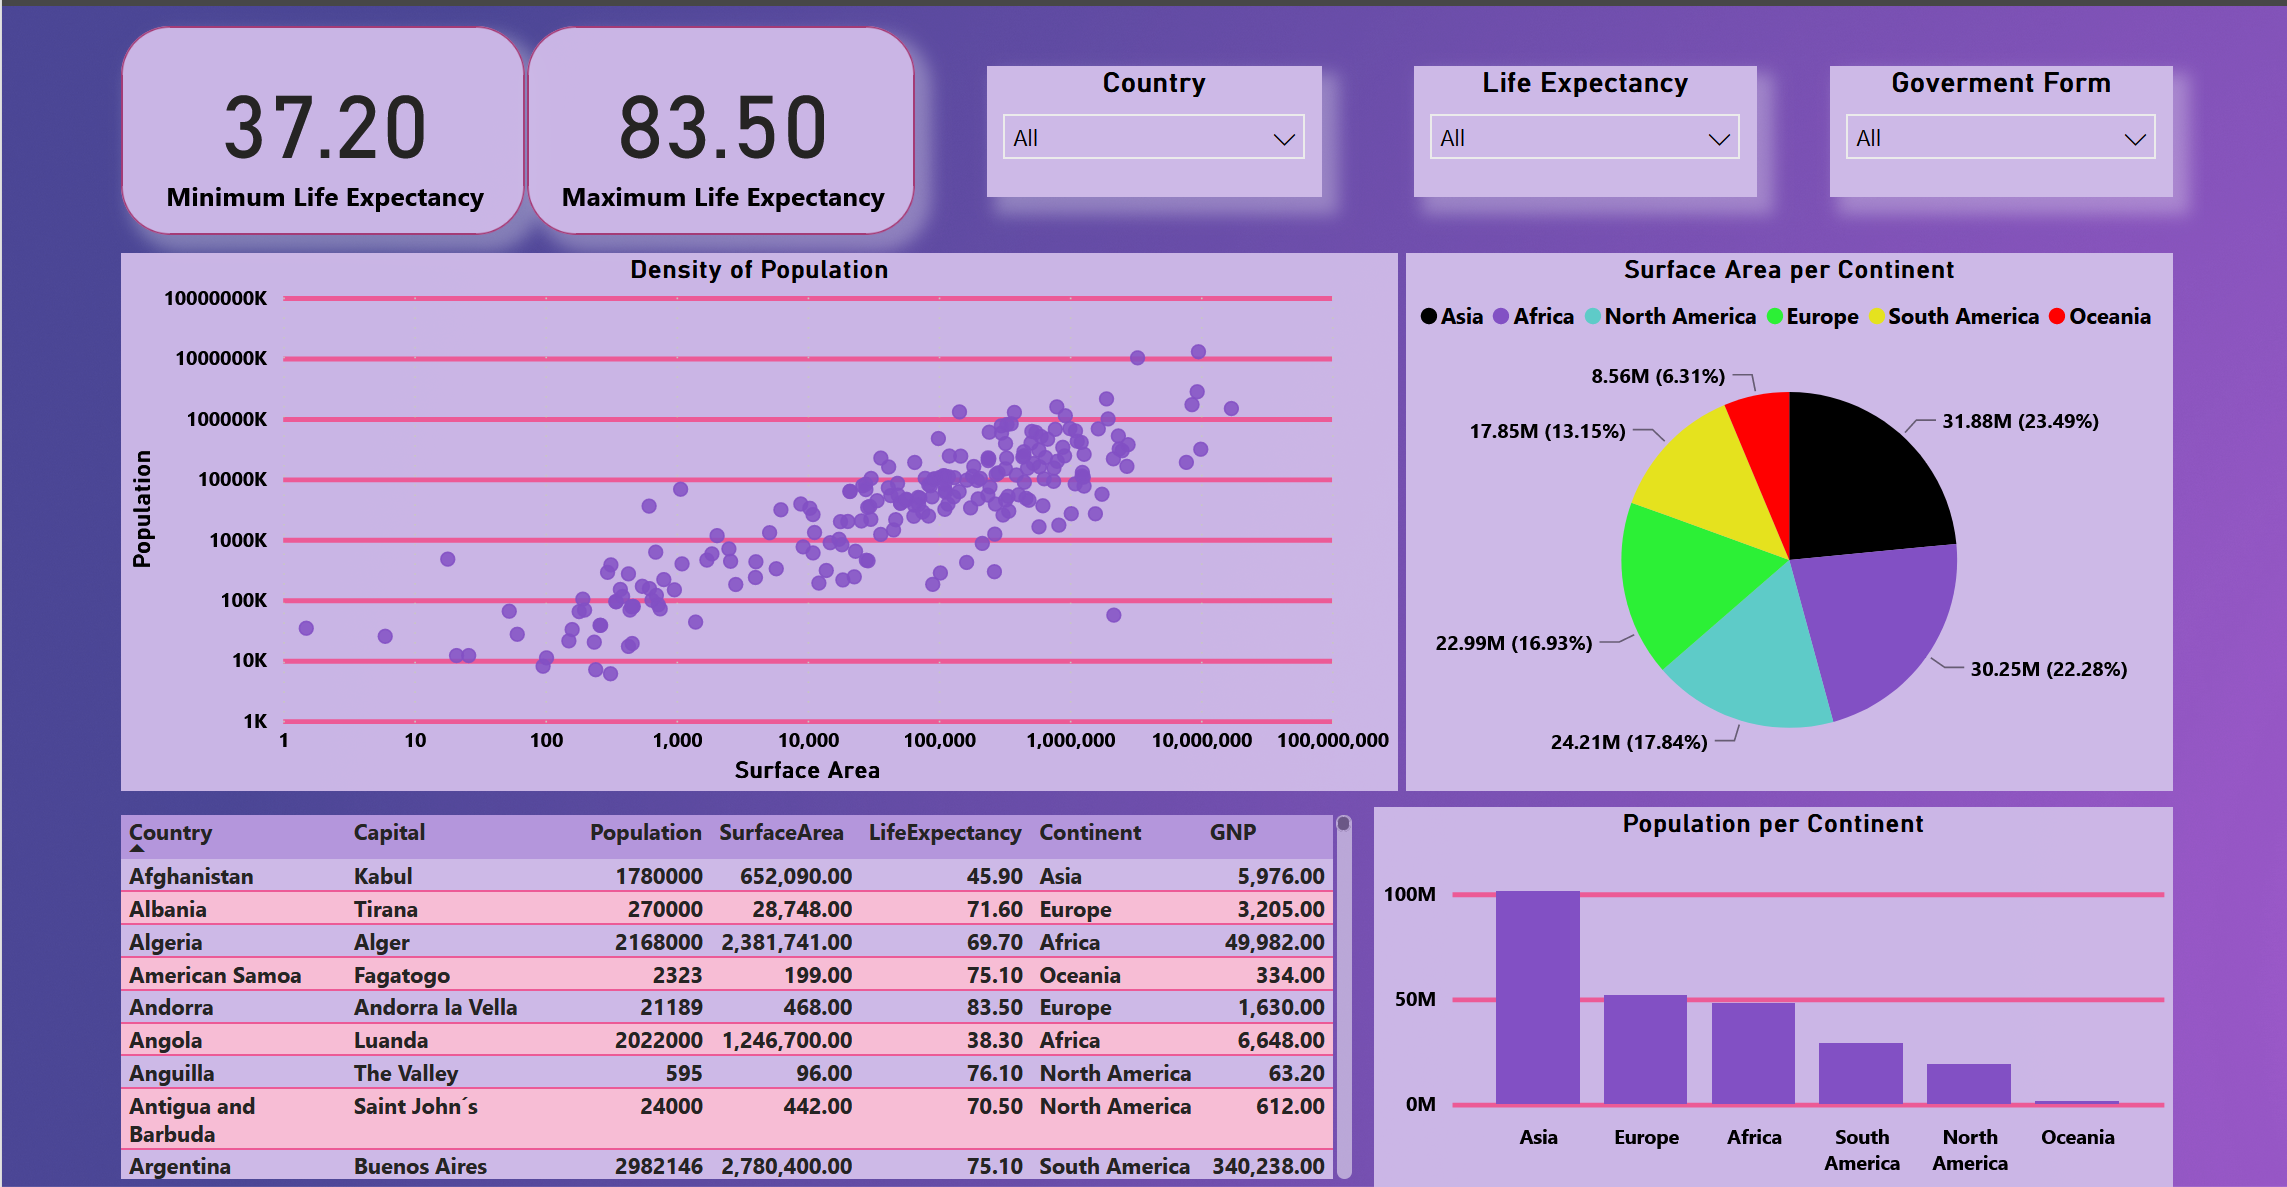

Layout of this report page (visuals, bound fields, positions):
{"tool":"powerbi","page":{"name":"Página 1","canvas":[1280,720],"ordinal":0},"visuals":[{"type":"tableEx","fields":{"Values":["World_City_Country.world_table_country.Name","World_City_Country.Name","World_City_Country.Population","World_City_Country.world_table_country.SurfaceArea","World_City_Country.world_table_country.LifeExpectancy","World_City_Country.world_table_country.Continent","World_City_Country.world_table_country.GNP"]},"box":[3.6,488.2,761.4,232],"z":0},{"type":"columnChart","title":"Population per Continent","fields":{"Category":["World_City_Country.world_table_country.Continent"],"Y":["Sum(World_City_Country.Population)"]},"box":[773.6,488.2,487,232],"z":1000},{"type":"pieChart","title":"Surface Area per Continent","fields":{"Y":["Sum(World_City_Country.world_table_country.SurfaceArea)"],"Category":["World_City_Country.world_table_country.Continent"]},"box":[793,150.6,467.6,327.9],"z":2000},{"type":"card","title":"Minimum Life Expetancy","fields":{"Values":["Min(World_City_Country.world_table_country.LifeExpectancy)"]},"box":[9.7,12.1,246.5,127.5],"z":3000},{"type":"card","fields":{"Values":["Max(World_City_Country.world_table_country.LifeExpectancy)"]},"box":[257.5,12.1,236.8,127.5],"z":4000},{"type":"slicer","title":"Country","fields":{"Values":["World_City_Country.world_table_country.Name"]},"box":[538,36.4,204,80.2],"z":5000},{"type":"slicer","title":"Life Expectancy","fields":{"Values":["World_City_Country.world_table_country.LifeExpectancy"]},"box":[797.9,36.4,208.9,80.2],"z":6000},{"type":"scatterChart","title":"Density of Population","fields":{"X":["World_City_Country.world_table_country.SurfaceArea"],"Y":["World_City_Country.world_table_country.Population"]},"box":[9.7,150.6,778.4,327.9],"z":7000},{"type":"slicer","title":"Goverment Form","fields":{"Values":["World_City_Country.world_table_country.GovernmentForm"]},"box":[1051.7,36.4,208.9,80.2],"z":8000}]}

Visuals, with their boxes in screenshot pixels (x1, y1, x2, y2):
tableEx - World_City_Country.world_table_country.Name x World_City_Country.Name: [119,798,1355,1175]
"Population per Continent" columnChart: [1369,798,2160,1175]
"Surface Area per Continent" pieChart: [1400,250,2160,783]
"Minimum Life Expetancy" card: [129,26,529,233]
card - Max(World_City_Country.world_table_country.LifeExpectancy): [531,26,916,233]
"Country" slicer: [987,65,1318,195]
"Life Expectancy" slicer: [1408,65,1748,195]
"Density of Population" scatterChart: [129,250,1393,783]
"Goverment Form" slicer: [1820,65,2160,195]
